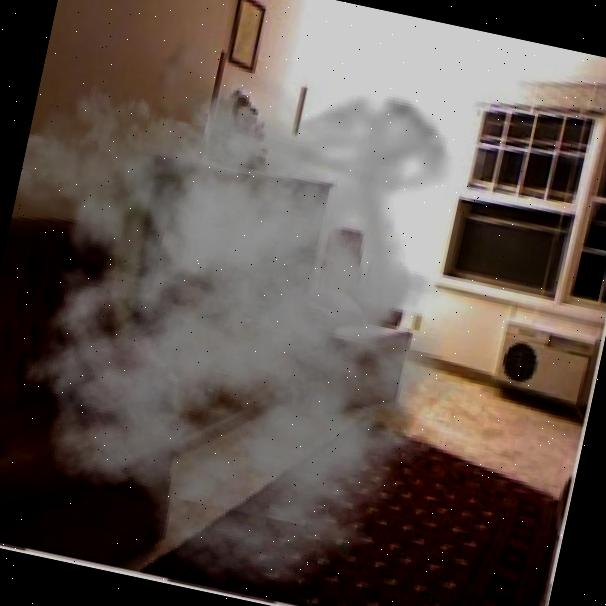smoke: (0, 17, 549, 606)
